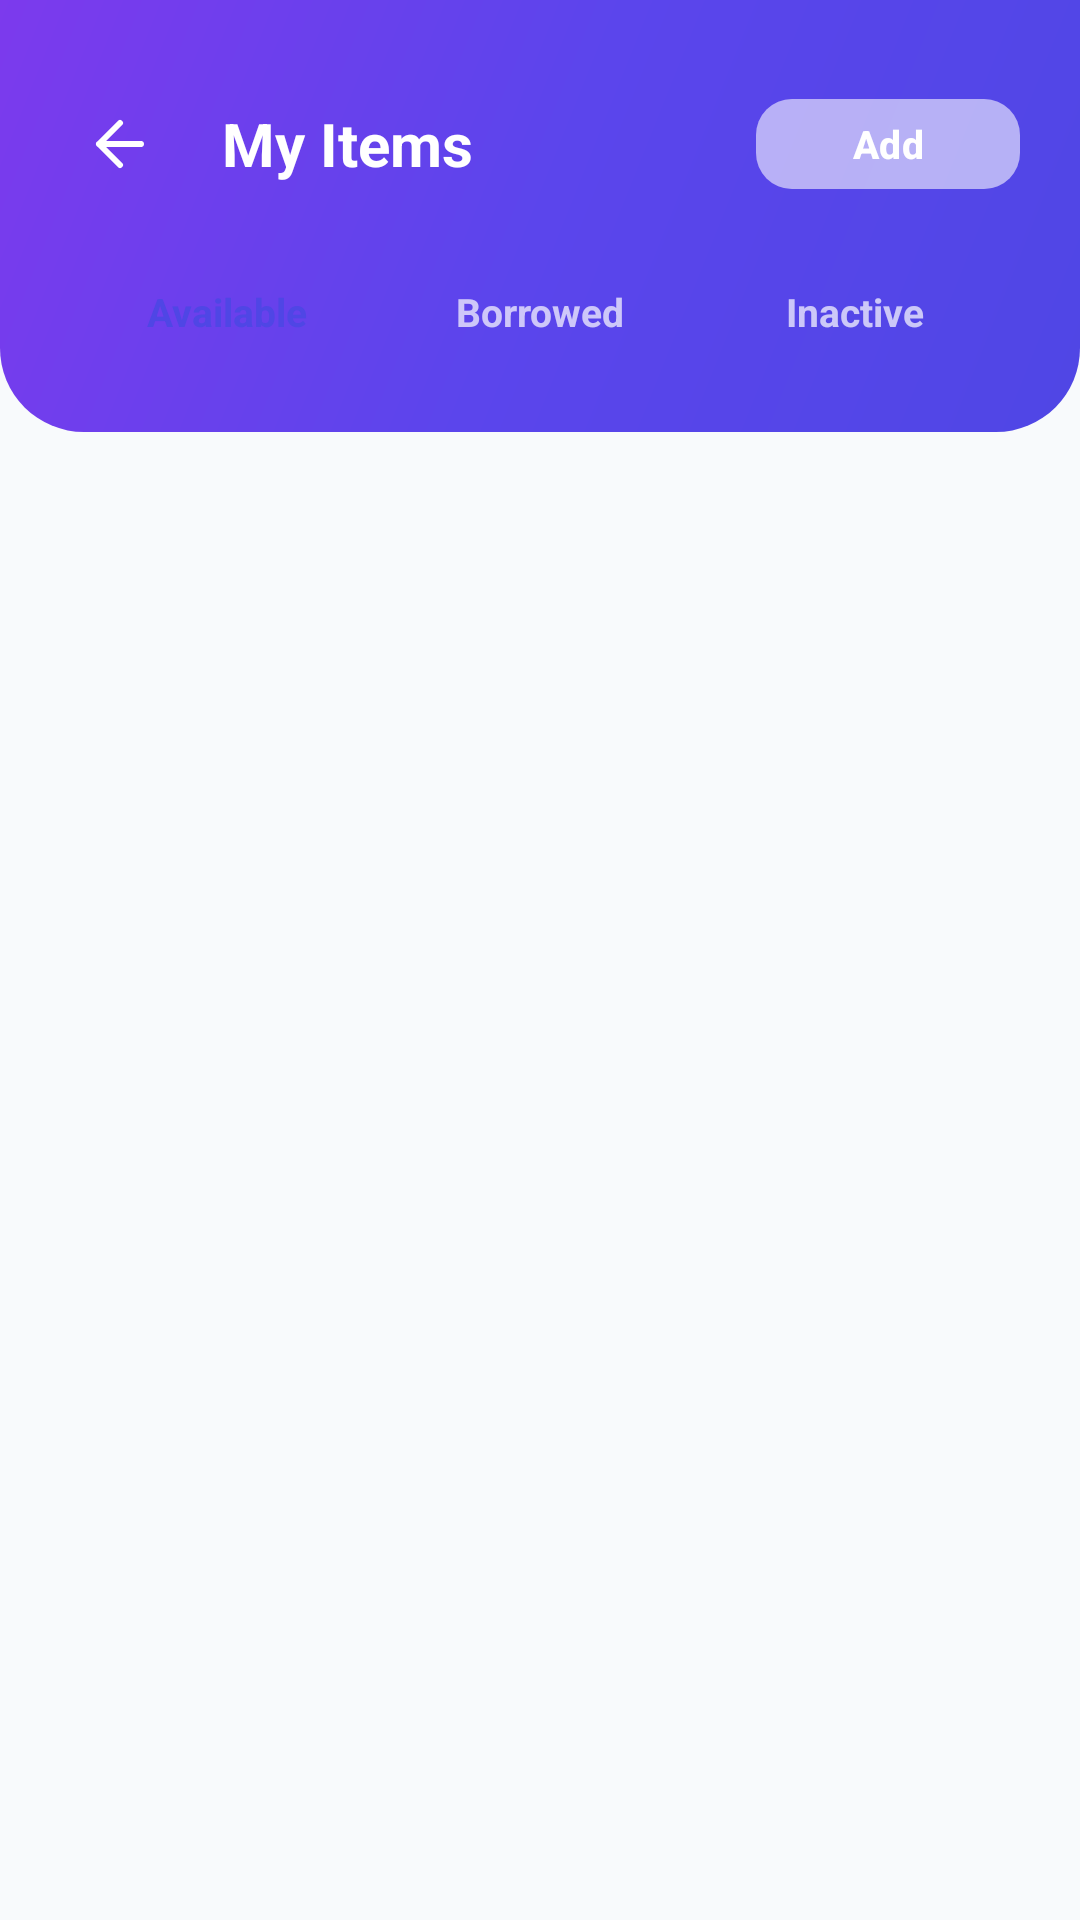

Icon bounding boxes for this 1080 × 1920 phone screenshot, format (x1, y1, x2, y2):
back: (96, 120, 144, 168)
